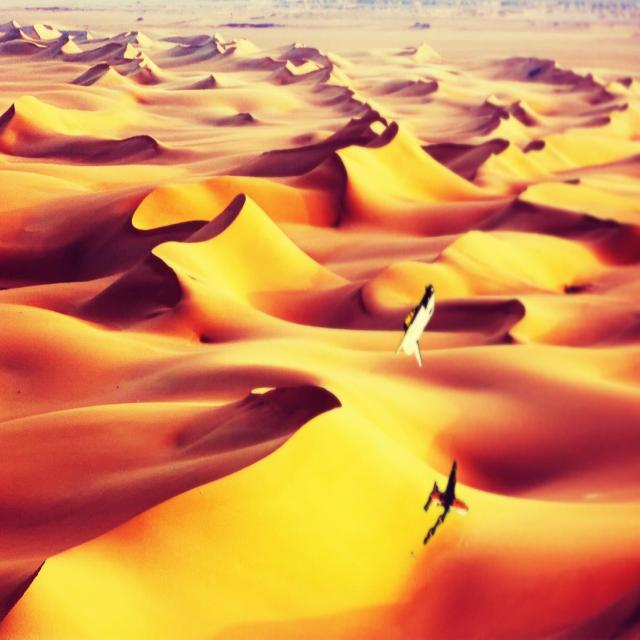airplane: (422, 459, 468, 545), (394, 282, 436, 367)
